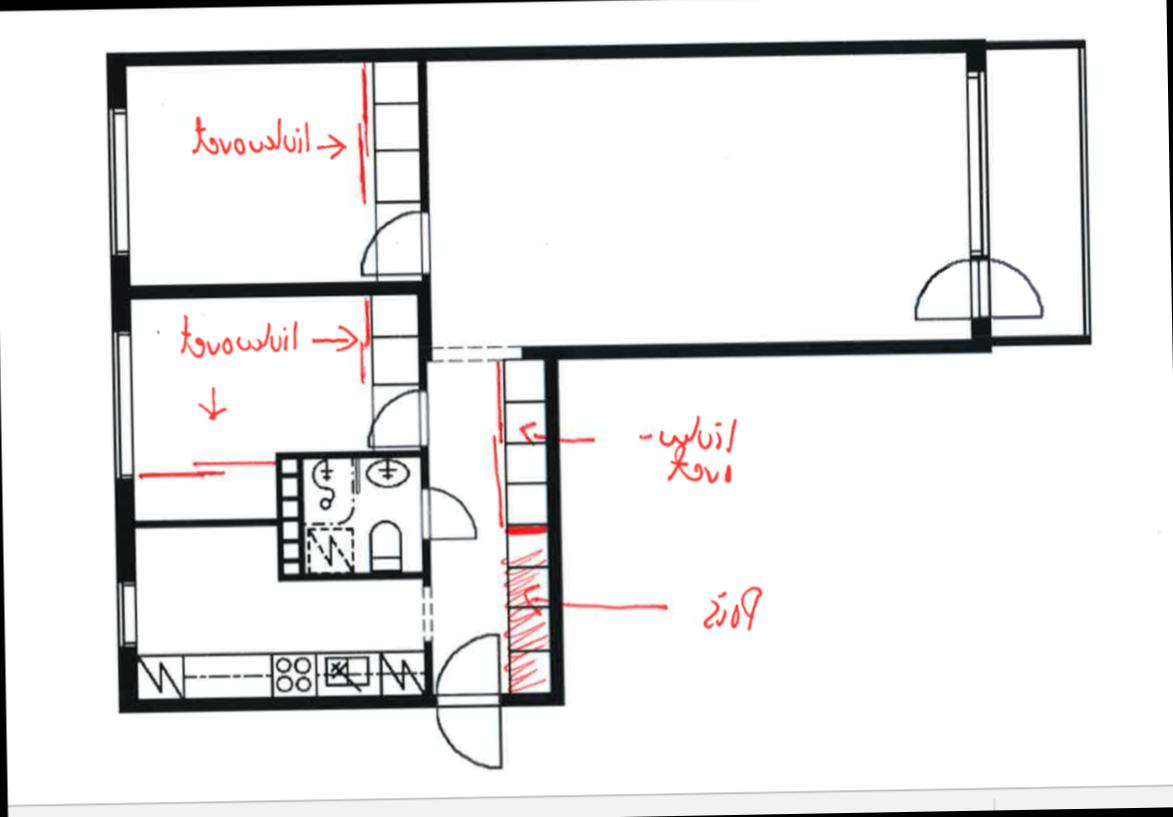door: (908, 251, 993, 328), (354, 203, 436, 279), (430, 628, 504, 706), (434, 694, 504, 776), (358, 383, 432, 458), (967, 250, 1048, 318), (416, 478, 486, 543)
window: (956, 60, 992, 258), (102, 324, 140, 482), (103, 95, 134, 262), (110, 570, 138, 652)
